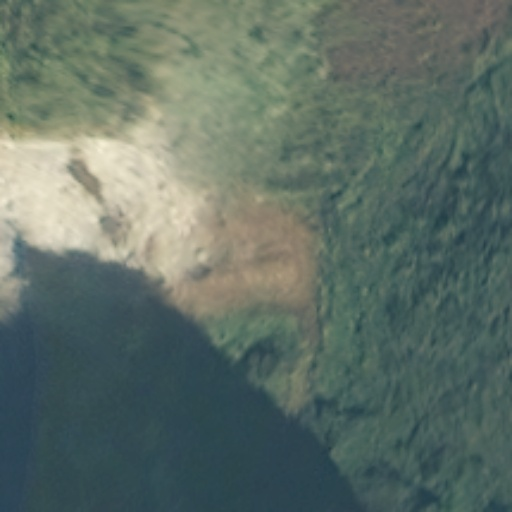landslide: (188, 198, 332, 316)
